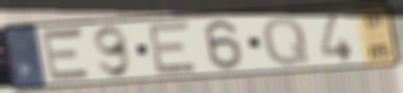4: (318, 11, 356, 64)
6: (202, 17, 245, 71)
9: (90, 24, 135, 79)
E: (39, 26, 95, 84), (147, 20, 200, 77)
Q: (260, 14, 313, 68)
